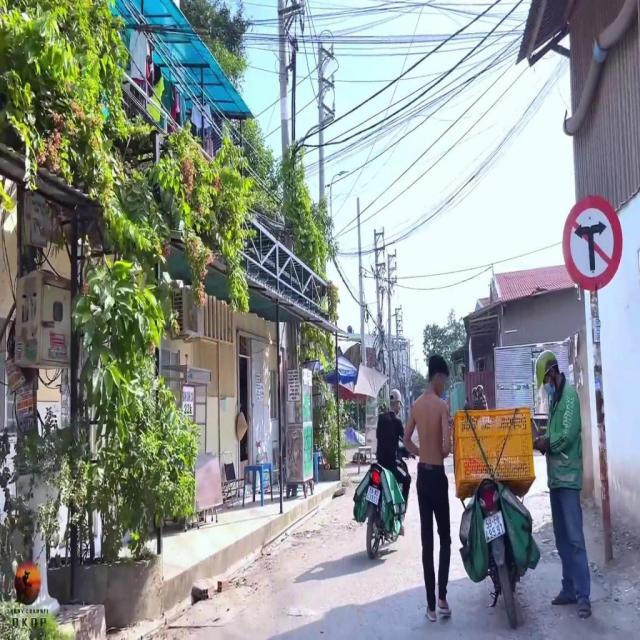cam_re_trai_va_phai: (563, 194, 623, 290)
